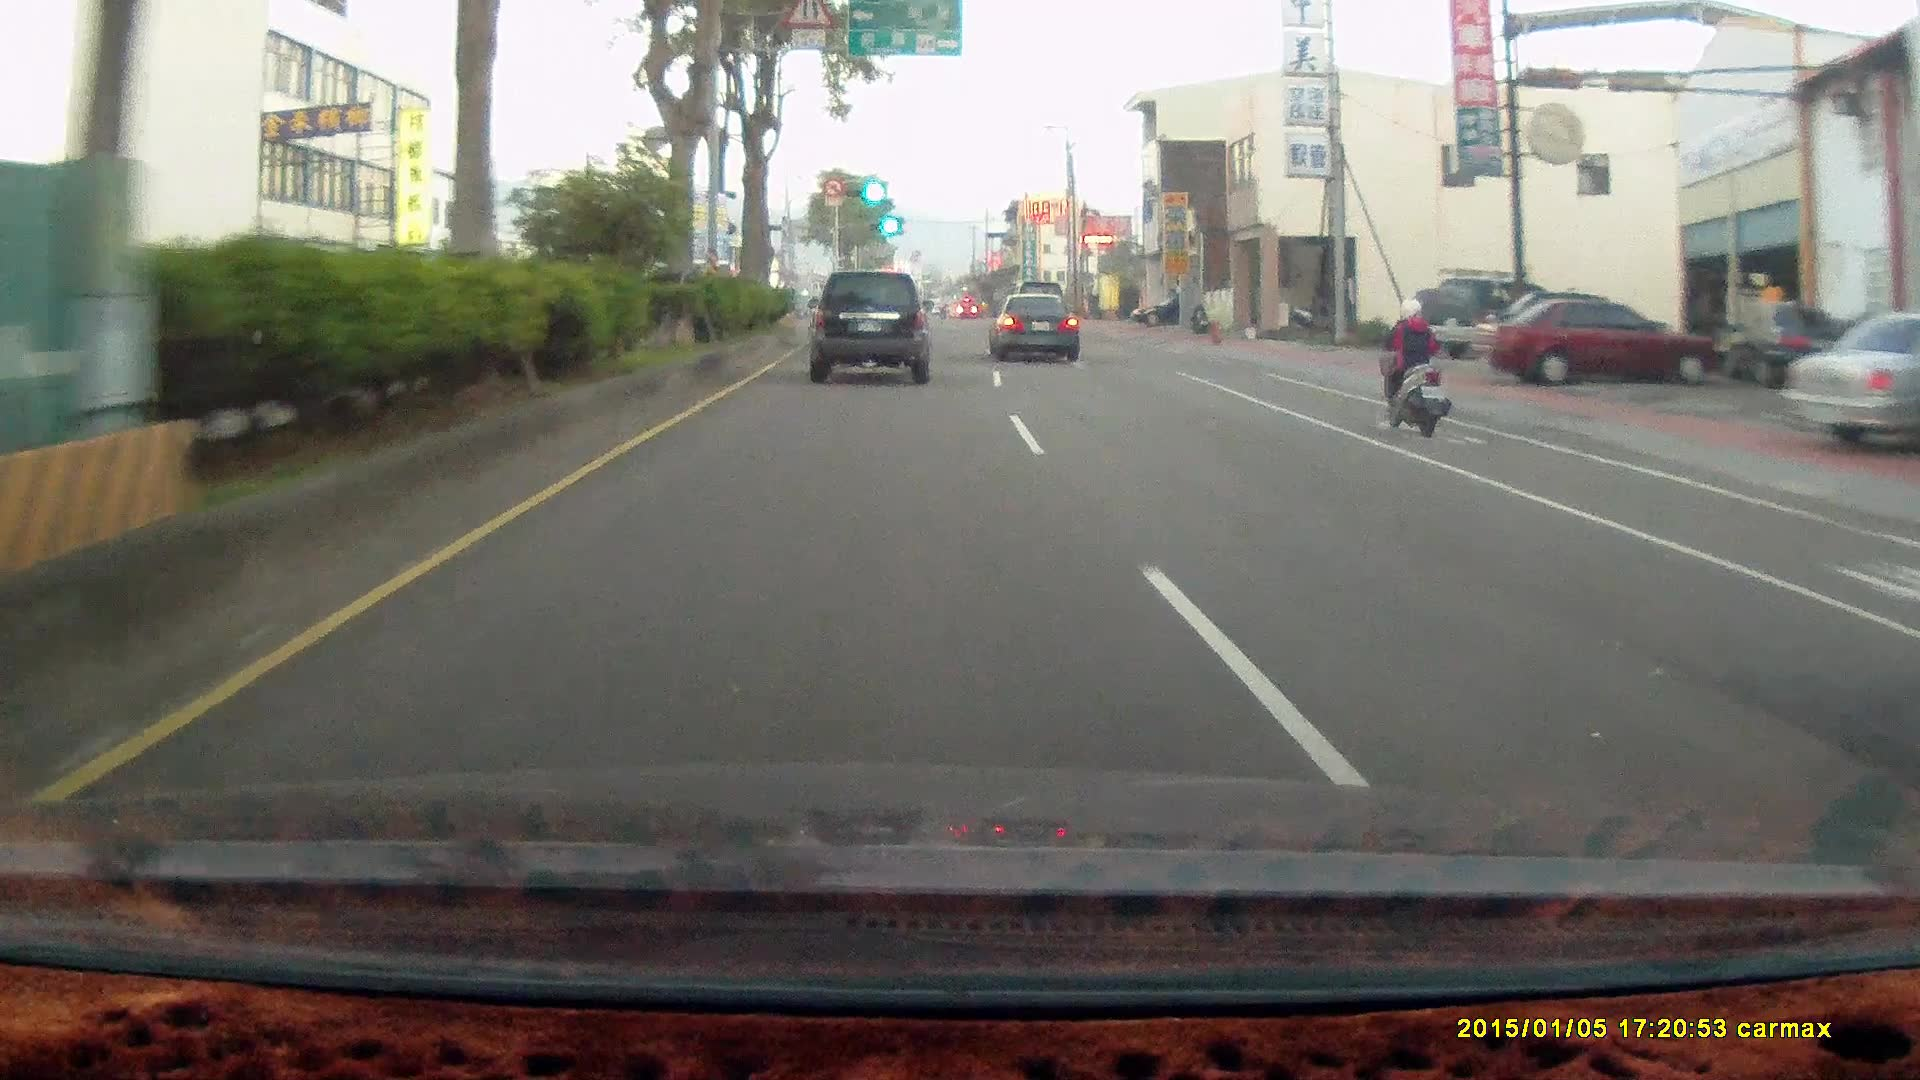rider: (1363, 285, 1463, 446), (1374, 291, 1449, 432)
vehicle: (1470, 296, 1714, 385), (1484, 297, 1709, 391), (1779, 309, 1920, 449), (810, 272, 934, 386), (809, 271, 932, 384), (1424, 273, 1566, 363), (1426, 276, 1565, 359), (1720, 304, 1838, 387), (989, 294, 1082, 364), (986, 289, 1078, 360), (1129, 295, 1207, 327)
